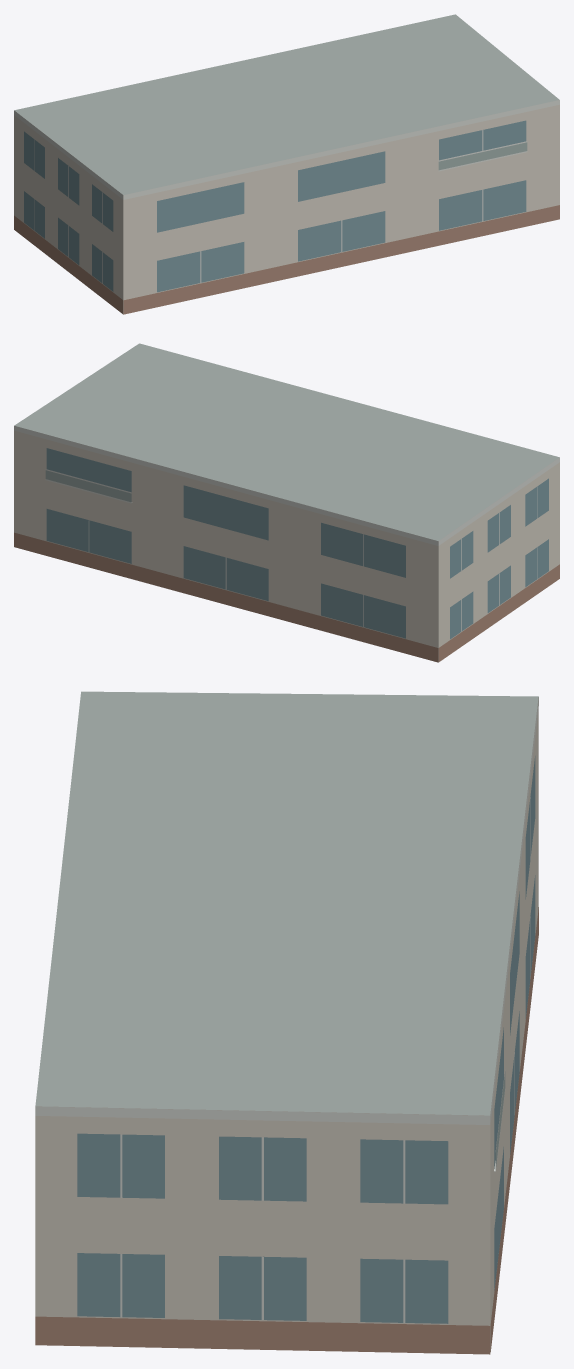
Rendered from survey-upis-32951528.glb.
3 renders of one model, top to bottom at view 1: azimuth 30°, elevation 25°; view 2: azimuth 150°, elevation 25°; view 3: azimuth 270°, elevation 25°, orthographic. The views are drawn at different scales.
Parts seen in each view (by area): view 1: survey-upis-32951528.tmp; view 2: survey-upis-32951528.tmp; view 3: survey-upis-32951528.tmp.
Boxes of the visible parts, <box> form: survey-upis-32951528.tmp: <box>14,14,559,314</box>; survey-upis-32951528.tmp: <box>14,343,559,662</box>; survey-upis-32951528.tmp: <box>35,691,538,1354</box>.
Bounding box in the file's own units: 23.24 × 6.1 × 11.66.
